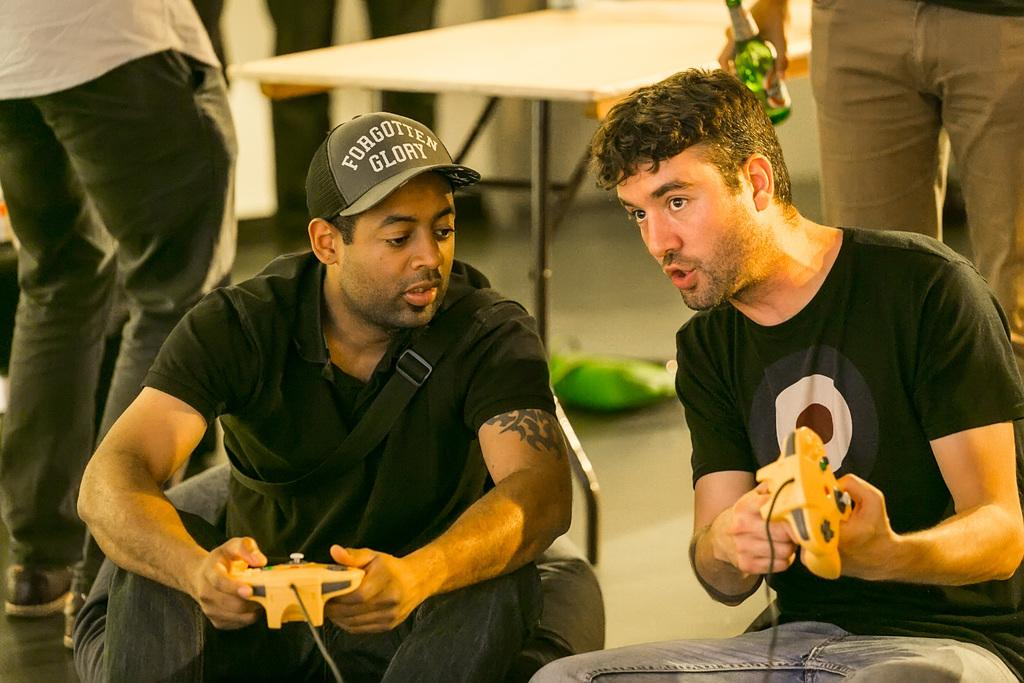Hat: (303, 110, 482, 236)
